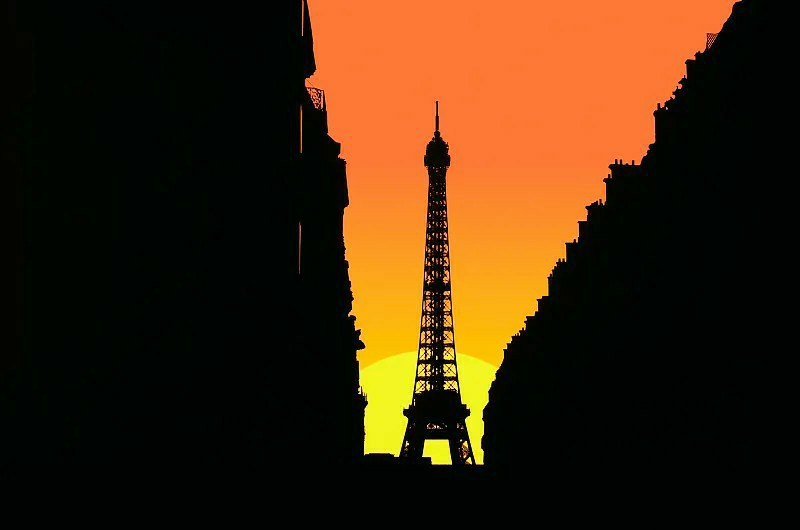Eiffel: (397, 99, 478, 465)
